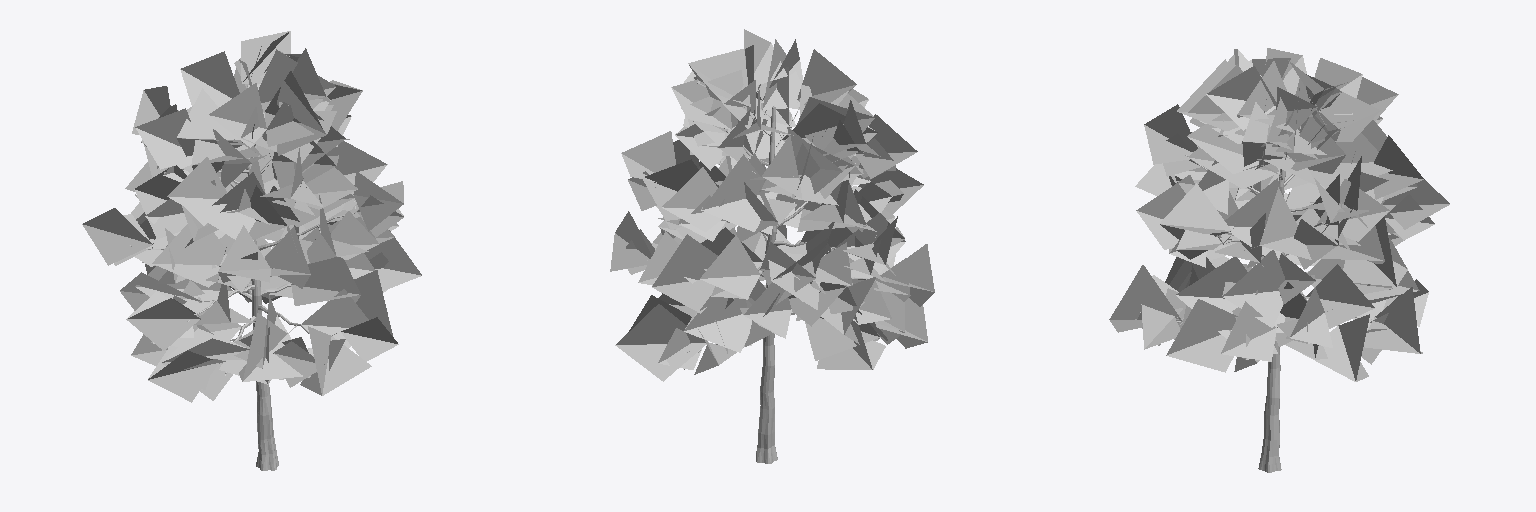
Rendered from beech02.obj.
The picture shows the model from 3 angles: view 1: azimuth 30°, elevation 25°; view 2: azimuth 150°, elevation 25°; view 3: azimuth 270°, elevation 25°; orthographic projection.
Visible parts, largest first — view 1: tree; view 2: tree; view 3: tree.
Boxes of the visible parts, x1,y1,x2,y2 form: tree: [82, 31, 421, 470]; tree: [610, 29, 934, 463]; tree: [1109, 48, 1449, 472].
Size of the model in its own units: 192 by 258 by 191.